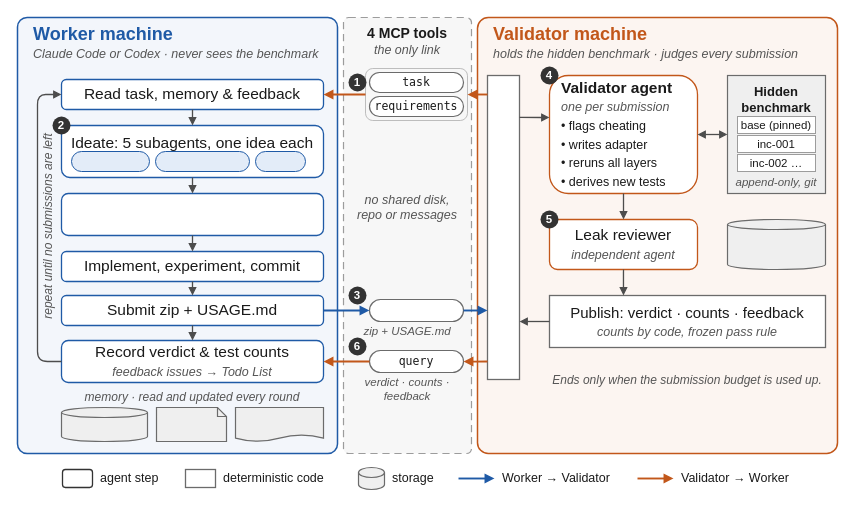
Some shapes in this 856 by 508 pixel diagram are drawn without their labels. Each missing label, with the centre of its shape:
AutoResearch Loop service: the point at 503,227
blank: the point at 280,161
Experience.md: the point at 279,424
failures-only: the point at 202,161
informed ×3: the point at 110,161
Rank ideas by UCB potential × feasibility + exploration: the point at 192,214
research-wiki: the point at 104,424
submit: the point at 416,310
Todo List: the point at 191,424
validation wiki: the point at 776,244
